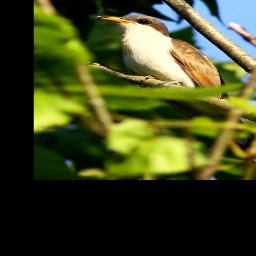Cuckoo: (90, 11, 256, 168)
